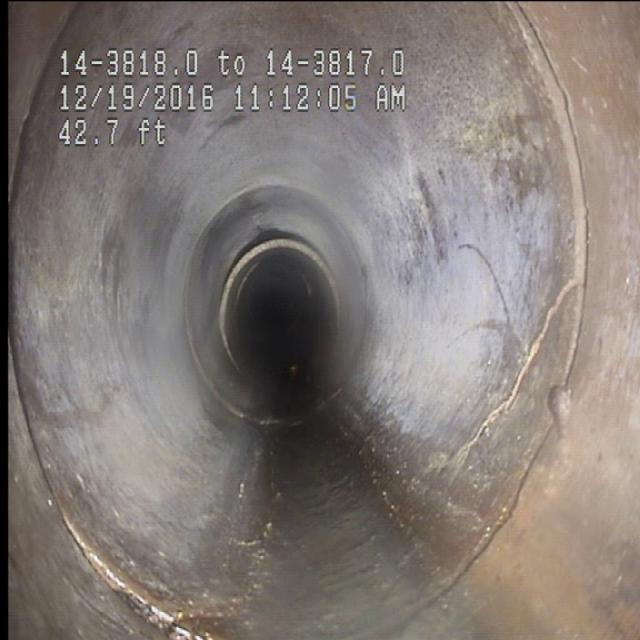Crack: (428, 183, 590, 462)
